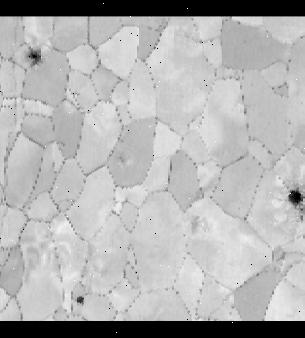good_void: (281, 186, 305, 222), (19, 40, 45, 71), (187, 210, 213, 239), (113, 153, 129, 169), (74, 293, 88, 304), (228, 311, 233, 315)
